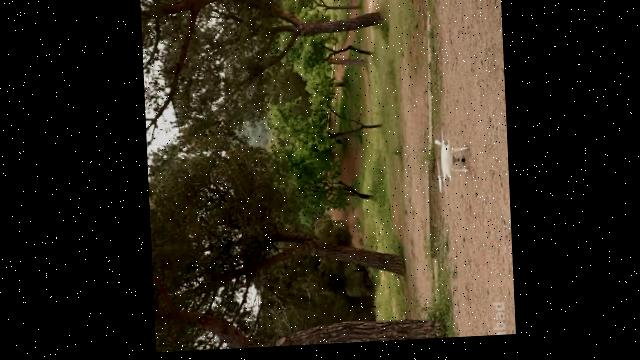drone: (431, 134, 470, 200)
